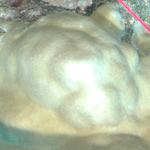alive: (2, 1, 147, 147)
